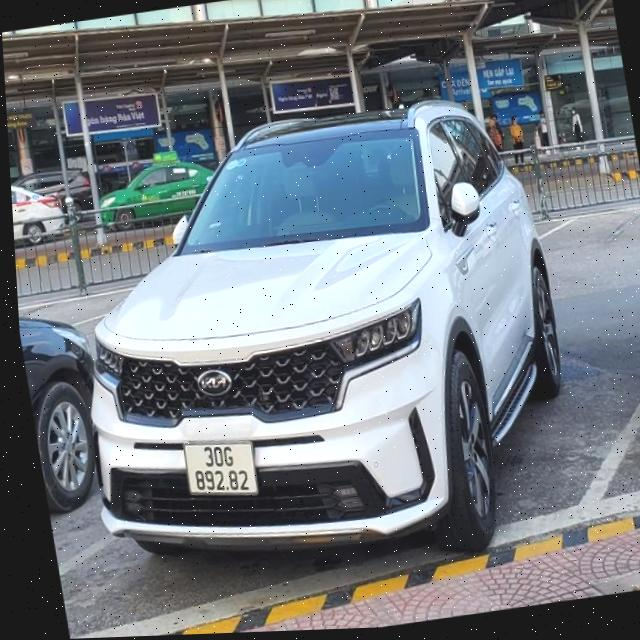car: (26, 74, 611, 602)
plate: (174, 430, 265, 506)
